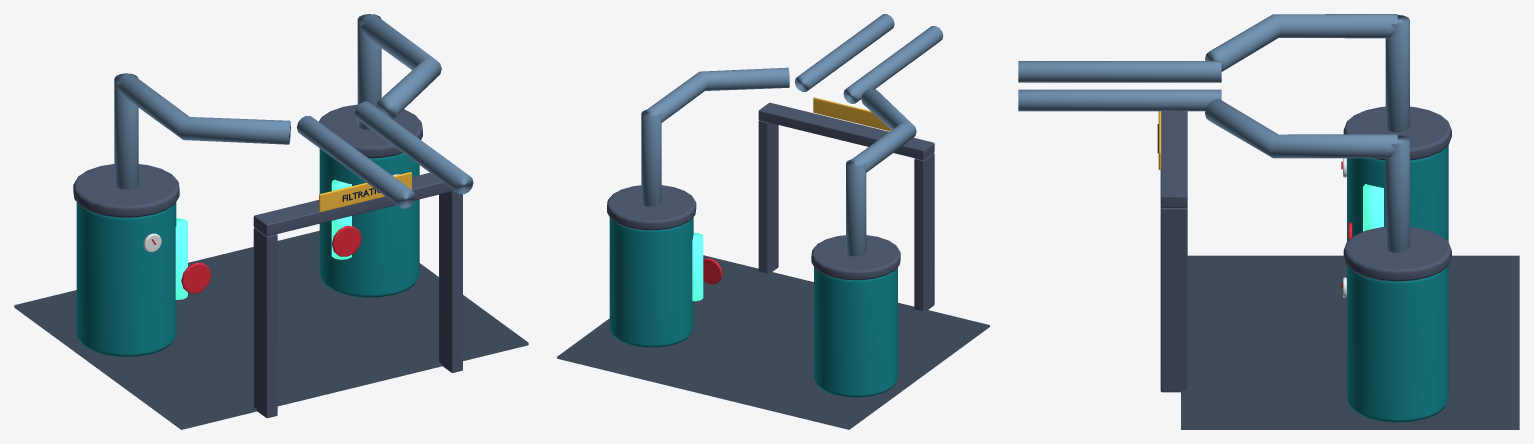
The model's file is aqua_filtration.glb.
3 renders of one model, left to right at view 1: azimuth 30°, elevation 25°; view 2: azimuth 150°, elevation 25°; view 3: azimuth 270°, elevation 25°, orthographic. The views are drawn at different scales.
Visible parts, largest first — view 1: Filtration; view 2: Filtration; view 3: Filtration.
Boxes of the visible parts, x1,y1,x2,y2 form: Filtration: [14, 14, 528, 429]; Filtration: [557, 14, 989, 429]; Filtration: [1018, 14, 1519, 429].
Size of the model in its own units: 6 by 4.38 by 7.4.
